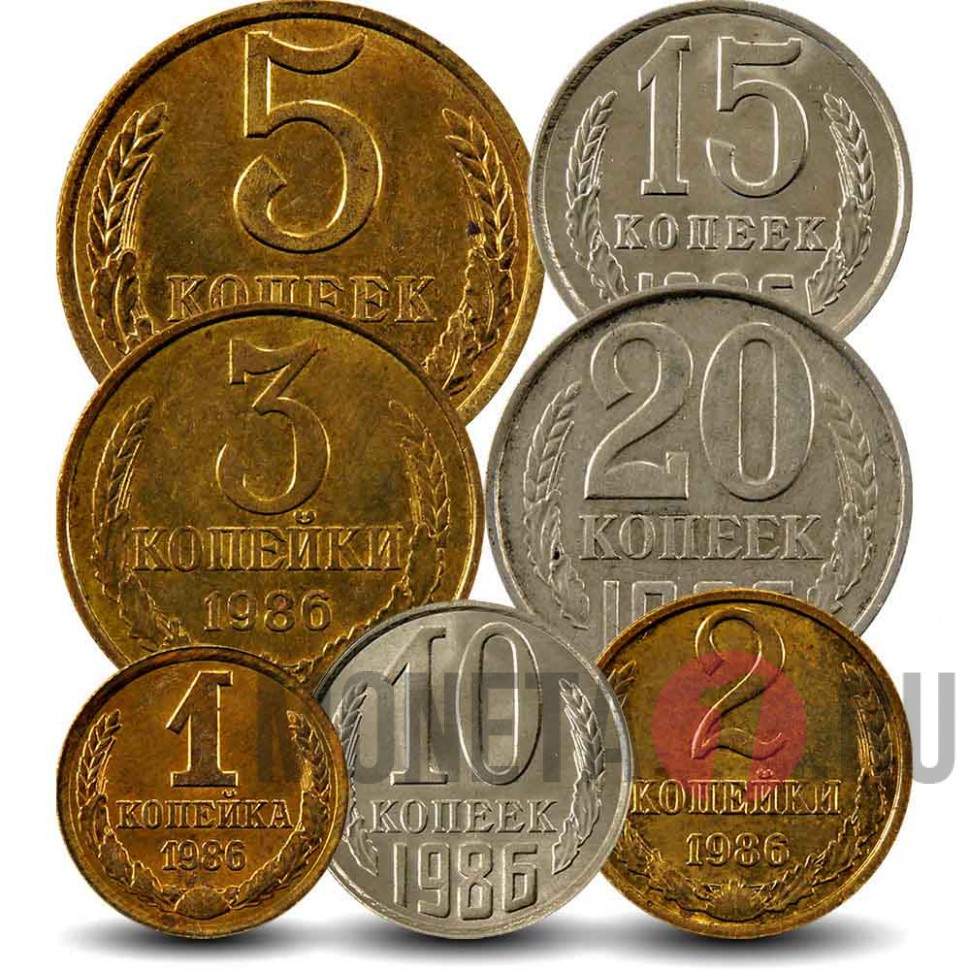coin: (38, 1, 532, 445), (44, 303, 494, 679), (485, 288, 911, 670), (527, 1, 921, 347), (584, 601, 912, 958), (307, 603, 622, 938), (52, 647, 341, 944)
